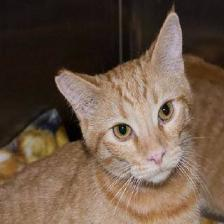cat: (50, 13, 199, 187)
